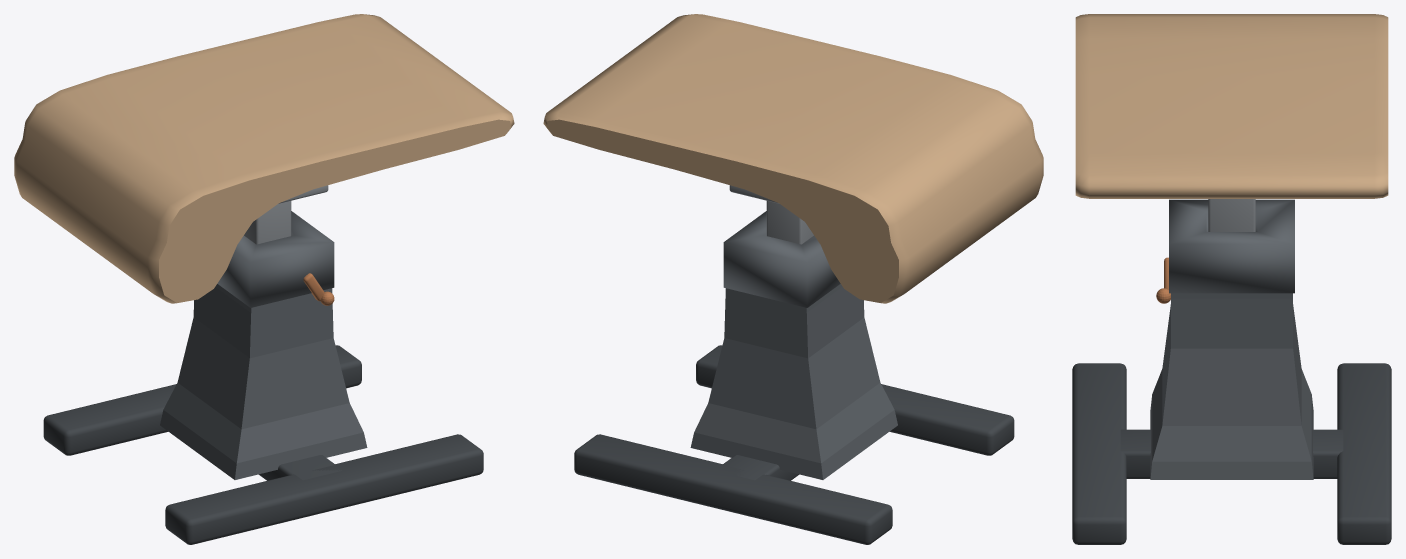
3 renders of one model, left to right at view 1: azimuth 30°, elevation 25°; view 2: azimuth 150°, elevation 25°; view 3: azimuth 270°, elevation 25°, orthographic. The views are drawn at different scales.
Visible parts, largest first — view 1: Padded curved vault top, Fixed flared padded pedestal, Low base runner, Upper cushion collar, Low base runner.001, Exposed inner post, Base cross member; view 2: Padded curved vault top, Fixed flared padded pedestal, Low base runner.001, Upper cushion collar, Low base runner, Exposed inner post, Base cross member; view 3: Padded curved vault top, Fixed flared padded pedestal, Upper cushion collar, Low base runner, Low base runner.001, Base cross member, Exposed inner post.
Boxes of the visible parts, x1=… form: Padded curved vault top: x1=14, y1=14, x2=514, y2=303; Fixed flared padded pedestal: x1=160, y1=284, x2=367, y2=479; Low base runner: x1=165, y1=434, x2=483, y2=544; Upper cushion collar: x1=217, y1=211, x2=334, y2=307; Low base runner.001: x1=43, y1=345, x2=361, y2=455; Exposed inner post: x1=244, y1=201, x2=291, y2=244; Base cross member: x1=258, y1=455, x2=341, y2=480; Padded curved vault top: x1=543, y1=14, x2=1043, y2=303; Fixed flared padded pedestal: x1=690, y1=284, x2=897, y2=479; Low base runner.001: x1=574, y1=434, x2=892, y2=544; Upper cushion collar: x1=723, y1=211, x2=840, y2=307; Low base runner: x1=696, y1=345, x2=1014, y2=455; Exposed inner post: x1=766, y1=201, x2=813, y2=244; Base cross member: x1=723, y1=455, x2=799, y2=480; Padded curved vault top: x1=1075, y1=14, x2=1388, y2=198; Fixed flared padded pedestal: x1=1150, y1=293, x2=1313, y2=479; Upper cushion collar: x1=1169, y1=199, x2=1294, y2=293; Low base runner: x1=1072, y1=363, x2=1126, y2=544; Low base runner.001: x1=1337, y1=363, x2=1391, y2=544; Base cross member: x1=1120, y1=429, x2=1343, y2=478; Exposed inner post: x1=1208, y1=199, x2=1255, y2=231.
Bounding box in the file's own units: 135 × 94 × 125.
